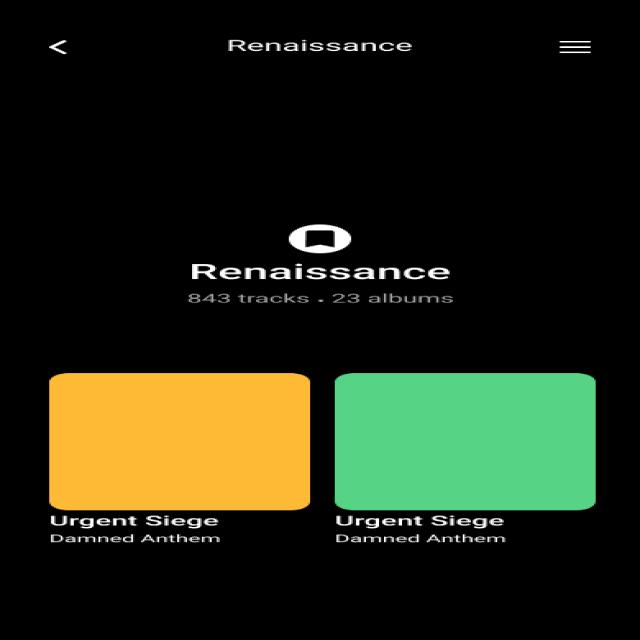icon button: (536, 21, 617, 66), (27, 24, 103, 66)
row: (20, 358, 618, 552), (10, 10, 636, 74)
spacer: (27, 85, 622, 209)
text: (158, 256, 489, 310)
view: (329, 364, 617, 545), (40, 364, 318, 546), (276, 218, 366, 258)
